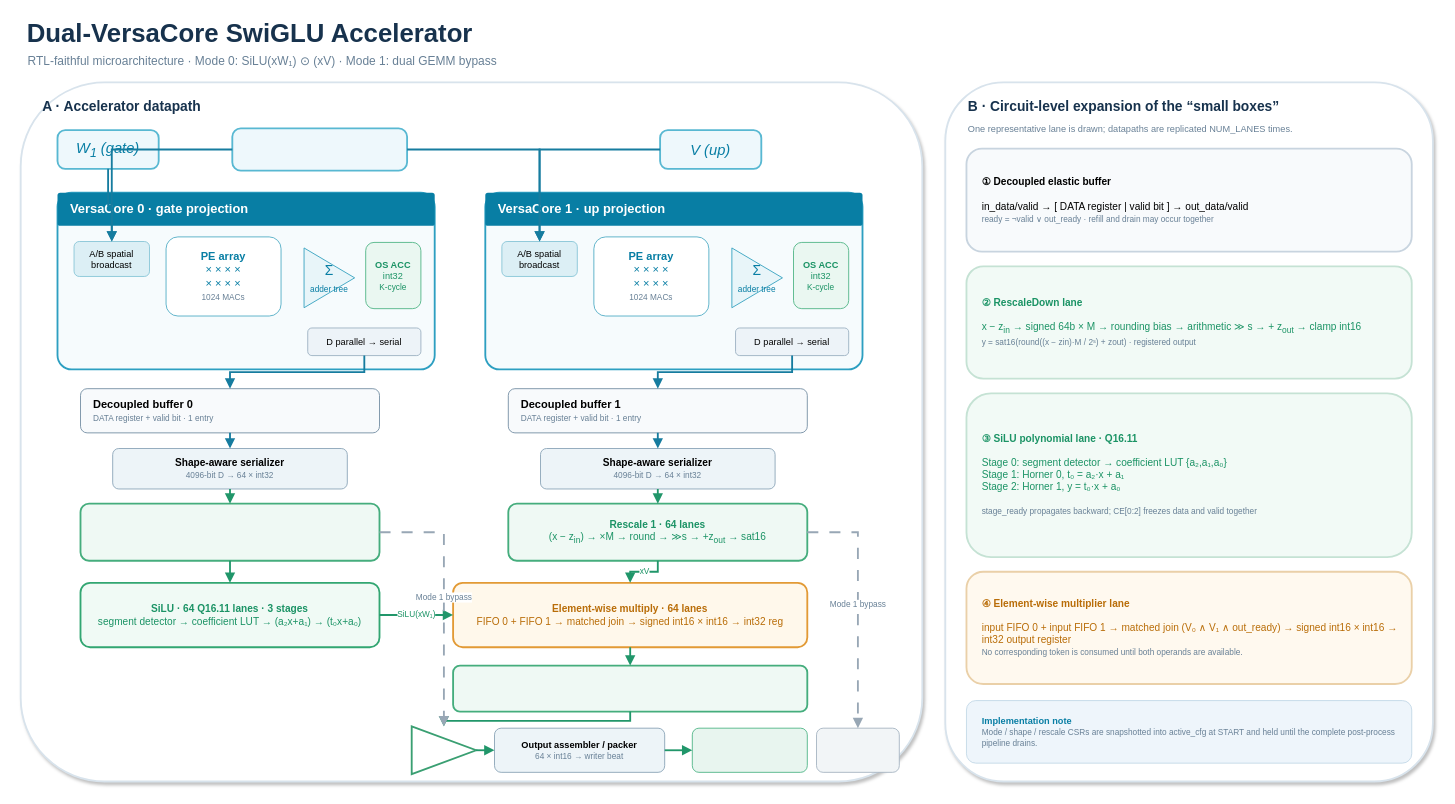
This 1455x804 diagram has some shape labels left out. The centre of each missing label's shape, as x and y in pixels:
Mode MUX: (x=443, y=750)
Rescale 0 · 64 lanes (x − z in ) → ×M → round → ≫s → +z out → sat16: (x=229, y=531)
Rescale MUL · int32 → int16 64-lane quantize + rounding + saturation: (x=630, y=688)
Shared x buffer atomic broadcast: (x=319, y=149)
Writer 0 M0 / M1-left: (x=749, y=749)
Writer 1 M1-right: (x=857, y=749)
